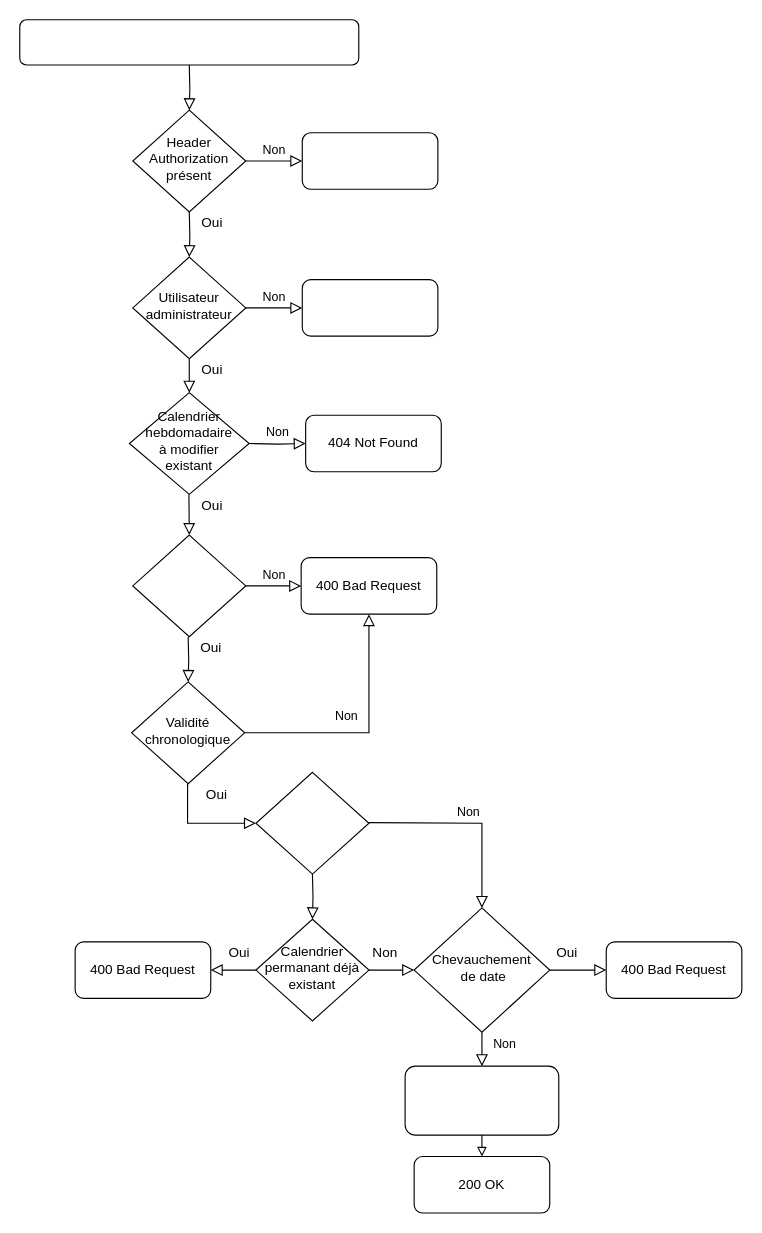
The diagram is 762 pixels wide and 1233 high, and some of its shapes have lost their labels. Here are the shapes that lost their labels. From the top down, the centre of each, then its label:
the point at 189,42: PATCH api/v1/weeklySchedules/{idWeeklySchedule}
the point at 369,160: 401 Unauthorized
the point at 369,307: 403 Forbidden
the point at 189,585: Validité du format de date
the point at 312,822: Calendrier permanant
the point at 481,1100: Modification du calendrier hebdomadaire dans la base de données
